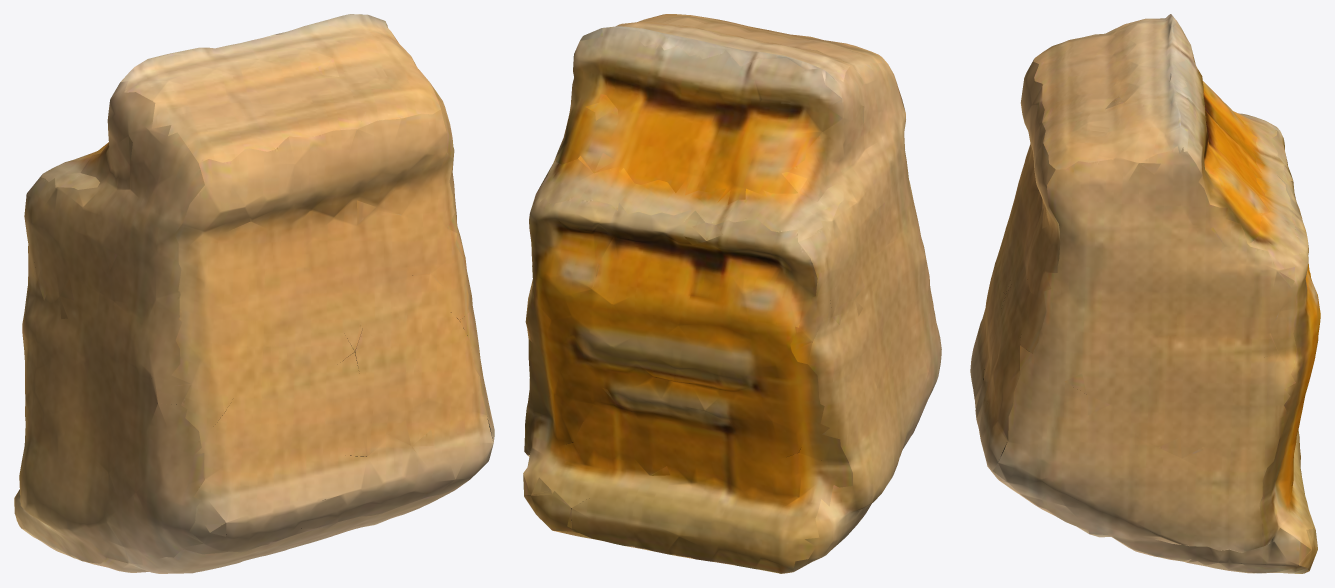
The picture shows the model from 3 angles, left to right: view 1: azimuth 30°, elevation 25°; view 2: azimuth 150°, elevation 25°; view 3: azimuth 270°, elevation 25°; orthographic projection. The views are drawn at different scales.
Parts seen in each view (by area): view 1: world; view 2: world; view 3: world.
Part boxes in pixels (x1,y1,x2,y2): world: (14, 14, 494, 573); world: (523, 14, 941, 573); world: (970, 14, 1320, 573).
Size of the model in its own units: 0.3592 by 0.4832 by 0.3267.
Materials: 1 (1 with a texture image).
